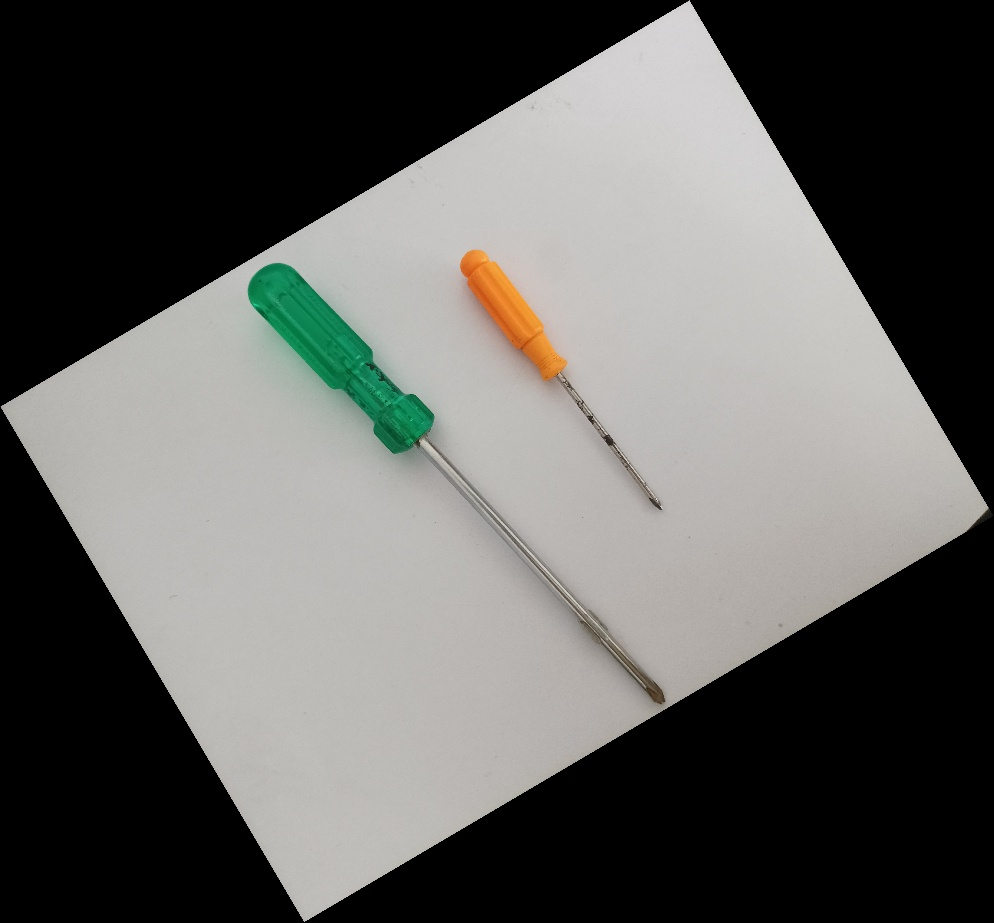screwdriver: (245, 259, 668, 711), (456, 244, 665, 517)
